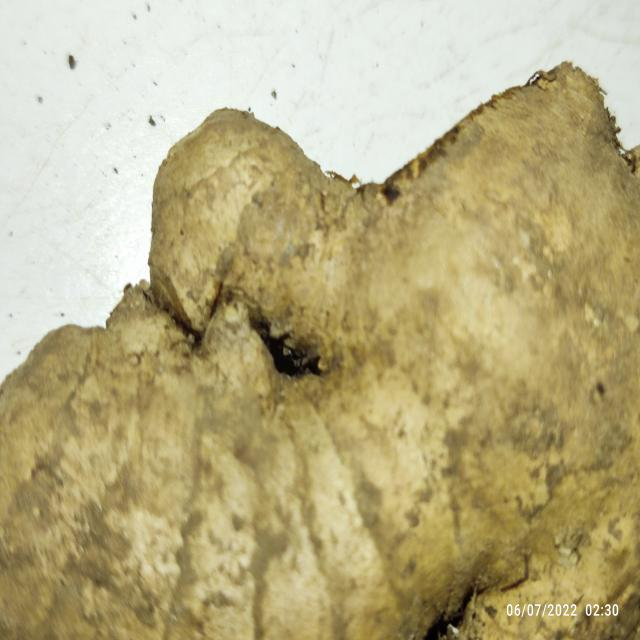ginger: (35, 78, 640, 640)
